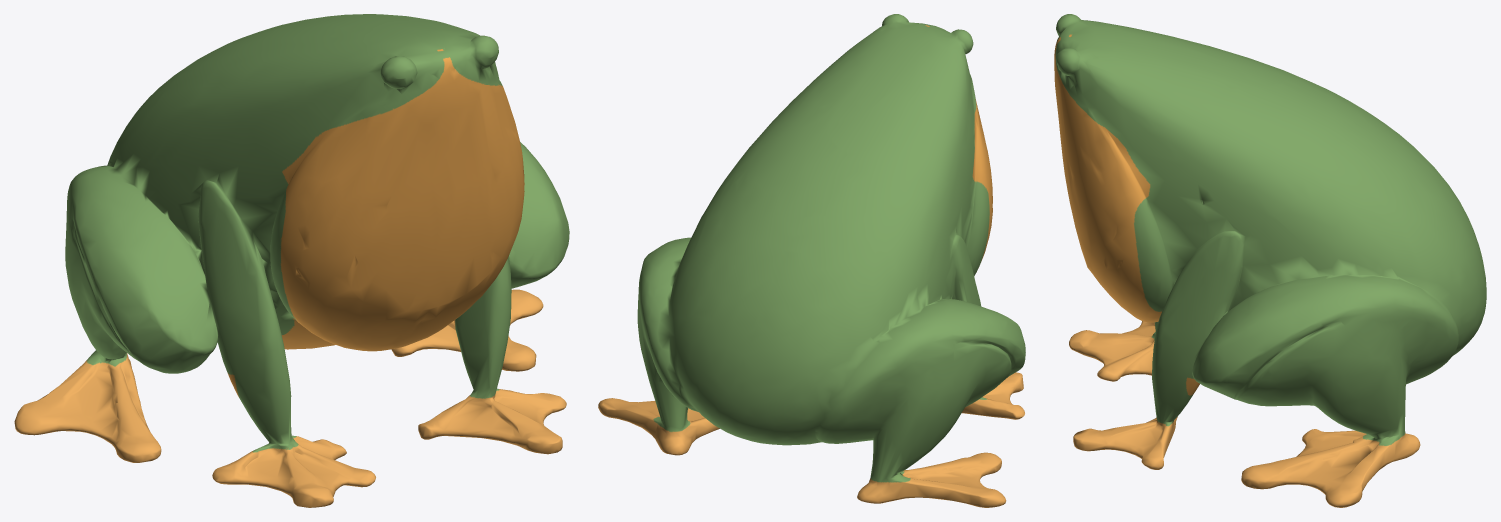
The model's file is toad-lod.glb.
The picture shows the model from 3 angles, left to right: view 1: azimuth 30°, elevation 25°; view 2: azimuth 150°, elevation 25°; view 3: azimuth 270°, elevation 25°; orthographic projection. The views are drawn at different scales.
Parts seen in each view (by area): view 1: bellows toad tripo lod; view 2: bellows toad tripo lod; view 3: bellows toad tripo lod.
Boxes of the visible parts, bbox=[...] form: bellows toad tripo lod: bbox=[14, 14, 569, 507]; bellows toad tripo lod: bbox=[598, 14, 1025, 507]; bellows toad tripo lod: bbox=[1054, 14, 1486, 507].
Bounding box in the file's own units: 2.69 × 2.2 × 2.3.
Materials: 1 (1 with a texture image).
